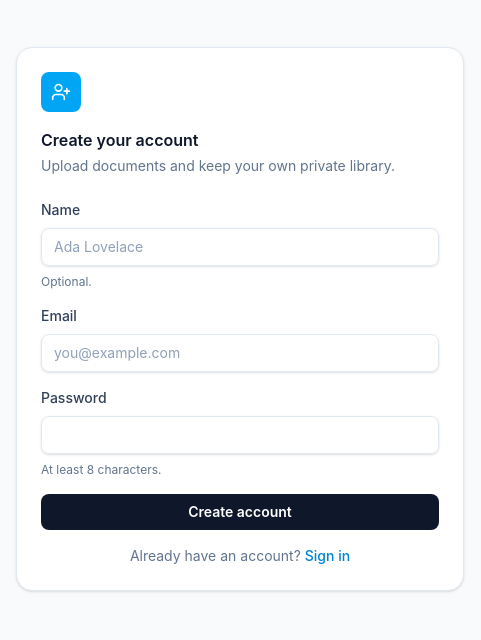
RegisterPage › rejects a password shorter than 8 characters
The width and height of the screenshot is (481, 640).
Type "grace@example.com" into the field labelled "Email" at (240,353), box [41,334,439,372]
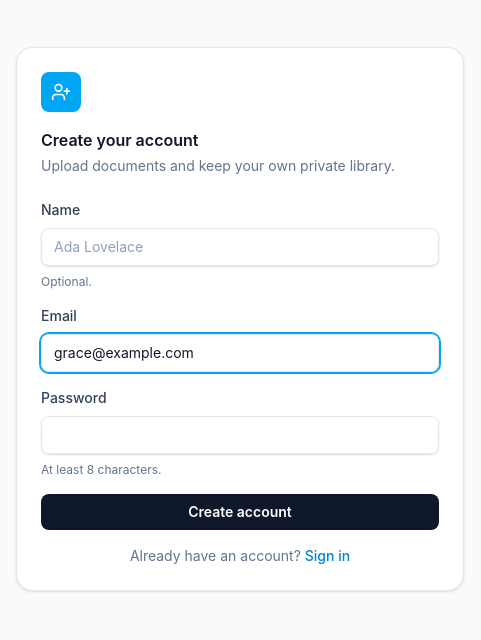
Type "short" into the password field labelled "Password At least 8 characters." at (240,435), box [41,416,439,454]
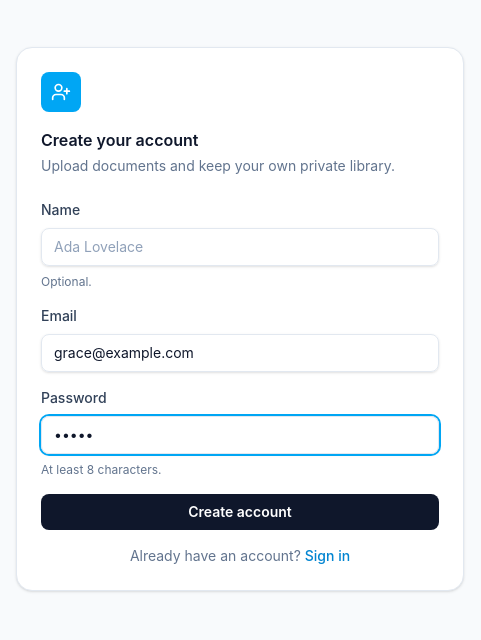
Click the button "Create account" at (240,512), box [41,494,439,530]
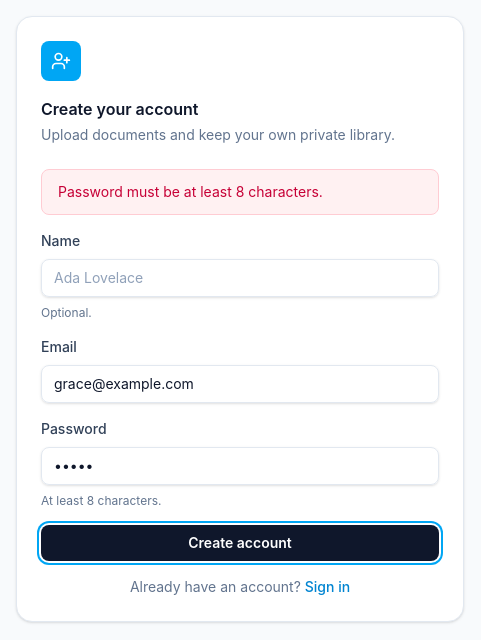
Result: the message reads "Password must be at least 8 characters." at [58,183,323,200]
